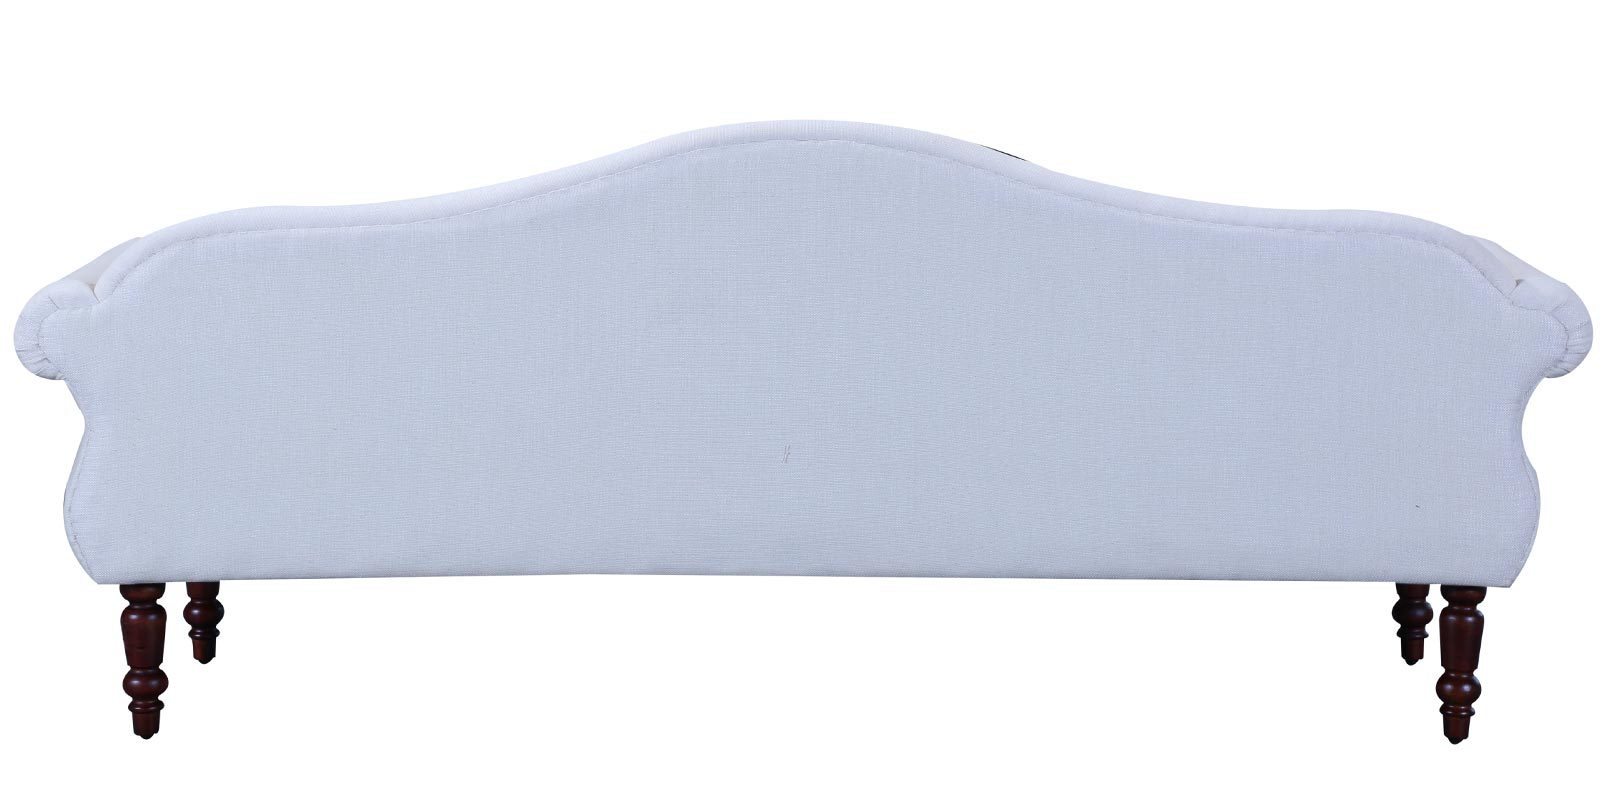Harleston Three Seater Sofa in Honey Oak Finish by Amberville: (8, 106, 1591, 800)
